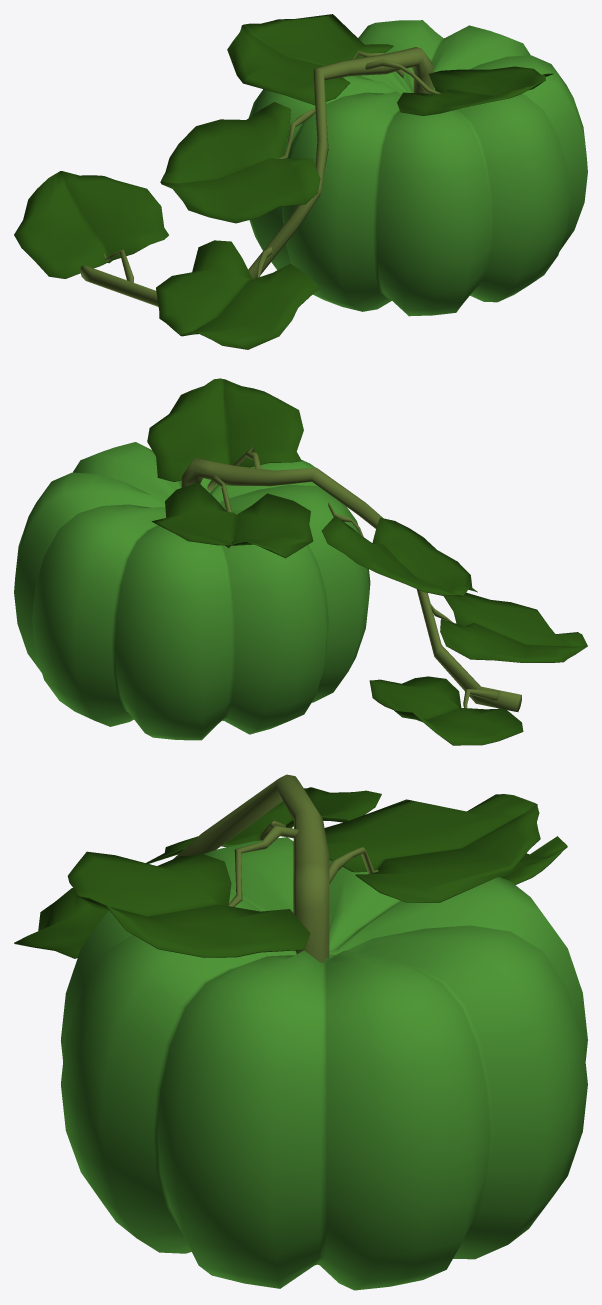
Rendered from AboboraVerde.fbx.
The picture shows the model from 3 angles, top to bottom: view 1: azimuth 30°, elevation 25°; view 2: azimuth 150°, elevation 25°; view 3: azimuth 270°, elevation 25°; orthographic projection. The views are drawn at different scales.
Visible parts, largest first — view 1: AboboraVerde; view 2: AboboraVerde; view 3: AboboraVerde.
Boxes of the visible parts, x1,y1,x2,y2 form: AboboraVerde: (14,14,587,349); AboboraVerde: (14,378,587,745); AboboraVerde: (14,774,587,1290).
Size of the model in its own units: 25.18 by 11.62 by 16.42.
